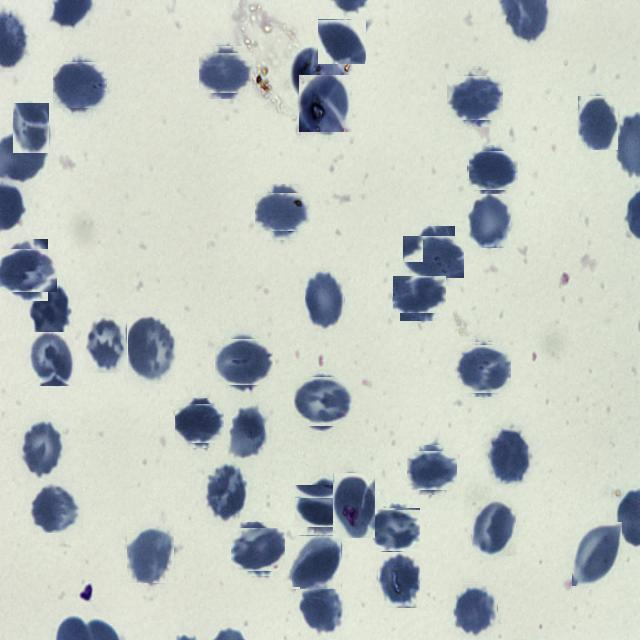red blood cell: (124, 316, 176, 384), (572, 522, 622, 586), (299, 75, 352, 134), (296, 374, 350, 428), (0, 243, 53, 296), (29, 481, 82, 534), (218, 336, 270, 389), (333, 473, 375, 538), (127, 525, 174, 583), (408, 230, 460, 282), (292, 535, 342, 589), (299, 481, 351, 532), (458, 344, 509, 395), (296, 582, 344, 636), (54, 60, 104, 110), (450, 74, 500, 124), (29, 332, 75, 386), (472, 501, 517, 556), (21, 420, 64, 477), (488, 427, 531, 484), (86, 315, 128, 373), (234, 524, 282, 574), (305, 269, 345, 329), (467, 194, 511, 248), (454, 583, 498, 637), (378, 552, 420, 608), (206, 464, 248, 520), (28, 284, 70, 338), (228, 404, 269, 459), (202, 49, 249, 96), (260, 188, 306, 236), (372, 506, 418, 553), (578, 96, 618, 150), (318, 19, 366, 64), (396, 272, 442, 318), (470, 148, 514, 194), (178, 402, 222, 446), (410, 448, 454, 492), (13, 103, 49, 153)
